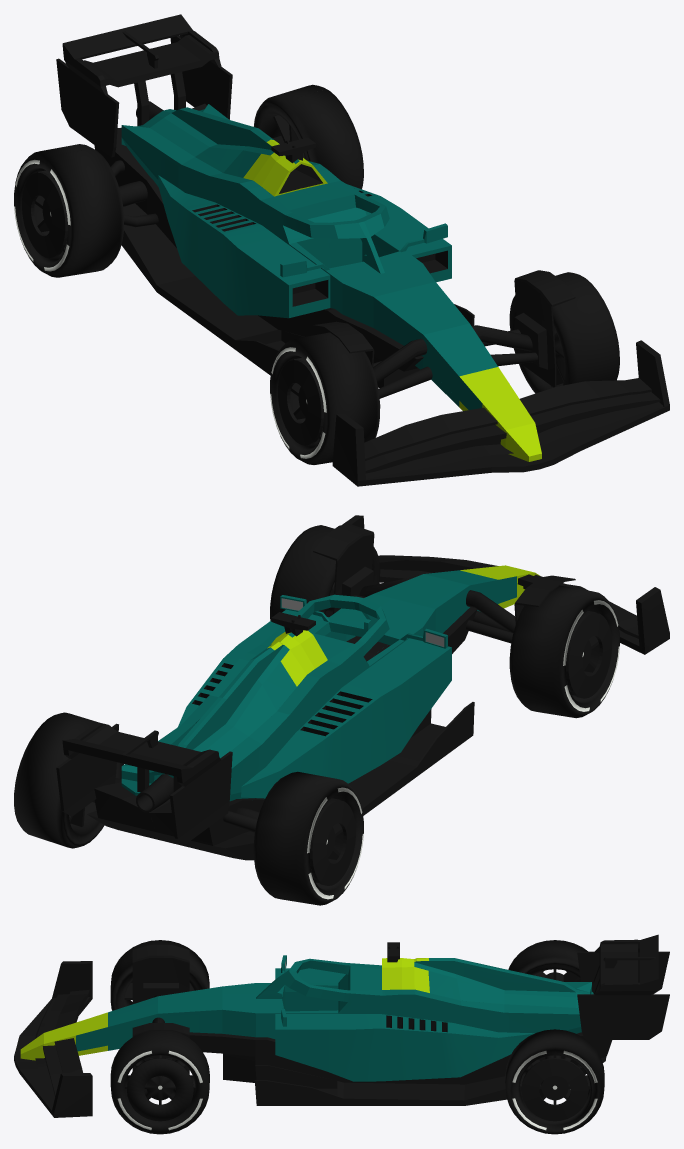
The model's file is astonmartin_car.glb.
The picture shows the model from 3 angles, top to bottom: view 1: azimuth 30°, elevation 25°; view 2: azimuth 150°, elevation 25°; view 3: azimuth 270°, elevation 25°; orthographic projection. The views are drawn at different scales.
Visible parts, largest first — view 1: Base Unsubsurfed, Front Wing Base, Sidepod, Rear Wing, Bottom, RR_Tire, FR_Tire, FL_Tire, RL_Tire, L_Inside Cover, FRod, RRod (+1 smaller); view 2: Base Unsubsurfed, Sidepod, RR_Tire, FR_Tire, Rear Wing, Bottom, RL_Tire, Front Wing Base, FL_Tire, L_Inside Cover, FRod, R_Inside Cover (+3 smaller); view 3: Base Unsubsurfed, Sidepod, Bottom, RL_Tire, FL_Tire, Rear Wing, Front Wing Base, R_Inside Cover, RR_Tire, FR_Tire, L_Inside Cover.
Part boxes in pixels (x1,y1,x2,y2): Base Unsubsurfed: [121, 104, 541, 461]; Front Wing Base: [332, 340, 669, 486]; Sidepod: [158, 175, 451, 318]; Rear Wing: [56, 14, 232, 157]; Bottom: [94, 103, 474, 387]; RR_Tire: [14, 144, 124, 277]; FR_Tire: [270, 332, 380, 464]; FL_Tire: [509, 272, 619, 393]; RL_Tire: [253, 84, 363, 189]; L_Inside Cover: [514, 270, 575, 387]; FRod: [373, 325, 538, 398]; RRod: [110, 160, 158, 227]; Base Unsubsurfed: [121, 565, 539, 801]; Sidepod: [178, 609, 451, 798]; RR_Tire: [253, 771, 363, 905]; FR_Tire: [509, 585, 619, 718]; Rear Wing: [56, 722, 232, 843]; Bottom: [87, 607, 477, 860]; RL_Tire: [14, 712, 123, 848]; Front Wing Base: [342, 515, 669, 654]; FL_Tire: [270, 525, 380, 620]; L_Inside Cover: [313, 524, 374, 614]; FRod: [353, 576, 515, 643]; R_Inside Cover: [514, 575, 575, 624]; Base Unsubsurfed: [20, 955, 593, 1060]; Sidepod: [275, 968, 534, 1081]; Bottom: [189, 1032, 612, 1105]; RL_Tire: [505, 1029, 604, 1134]; FL_Tire: [110, 1031, 209, 1134]; Rear Wing: [577, 934, 669, 1039]; Front Wing Base: [14, 961, 92, 1117]; R_Inside Cover: [132, 945, 189, 1003]; RR_Tire: [508, 940, 587, 981]; FR_Tire: [110, 940, 209, 1010]; L_Inside Cover: [132, 1023, 189, 1089].
Bounding box in the file's own units: 5.15 × 2.77 × 12.15.
